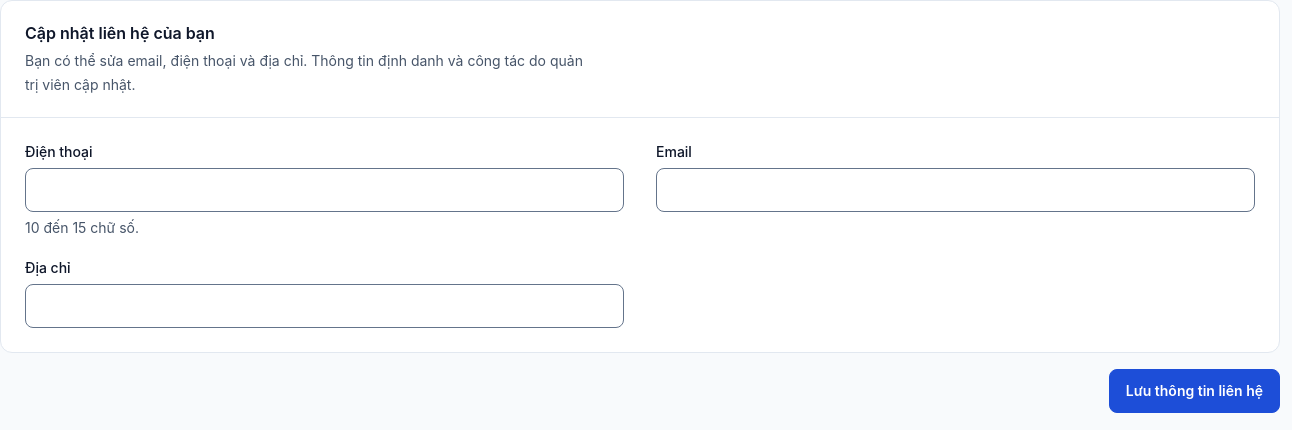
Test case: sends only editable contact fields and retains the returned profile
Type "new@example.com" into the field labelled "Email". click: [956, 190]
box: [656,168,1255,212]
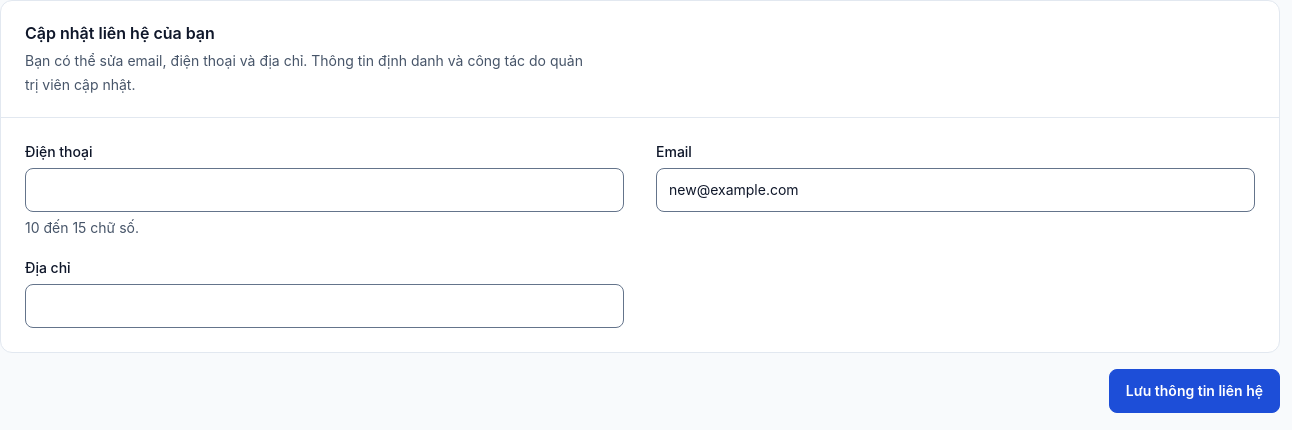
Type "  Hanoi  " into the field labelled "Địa chỉ". click: [324, 306]
box: [25,284,624,328]
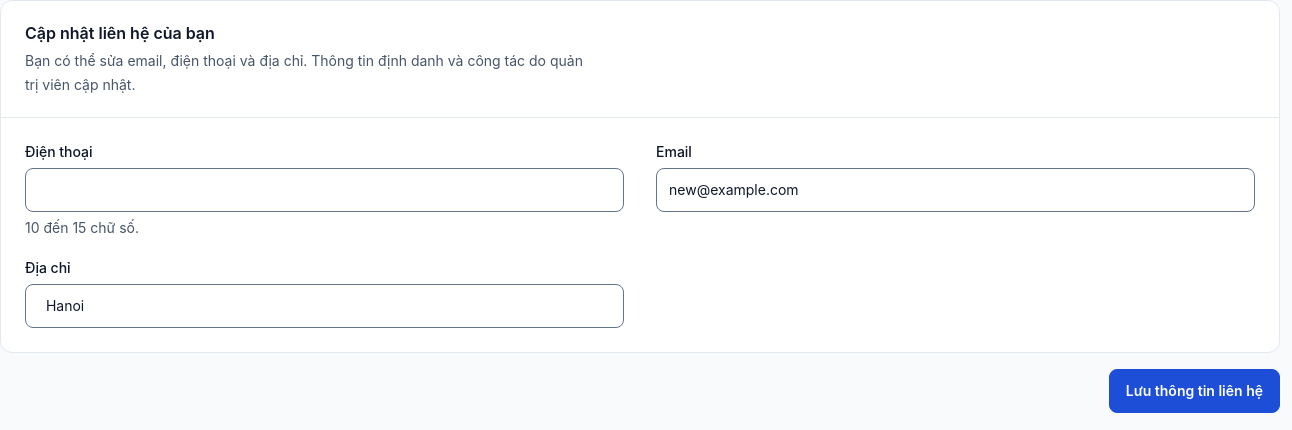
Click the button "Lưu thông tin liên hệ". click: [1194, 391]
box: [1109,369,1280,413]
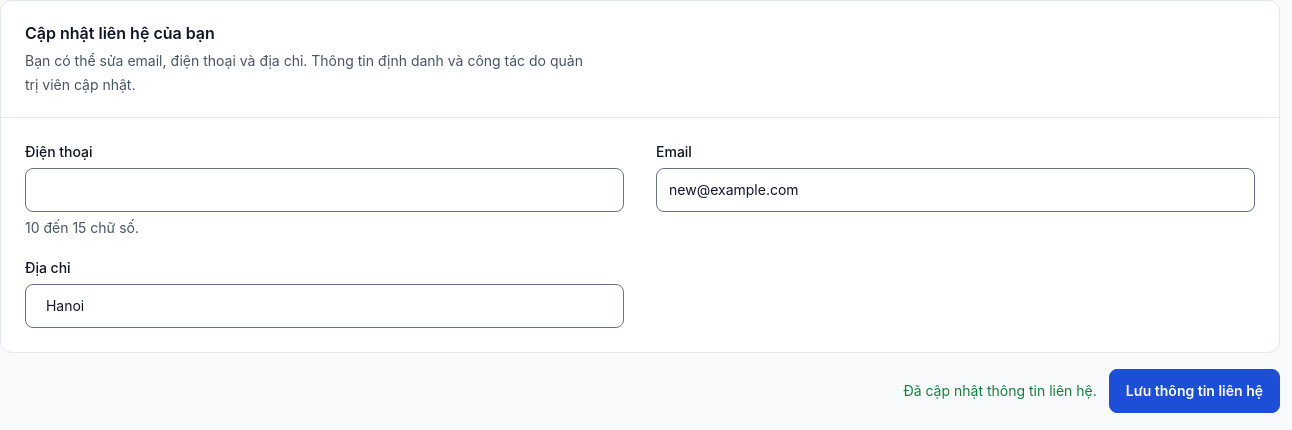
Now the text "Đã cập nhật thông tin liên hệ." is shown, box [903,381,1097,401]
